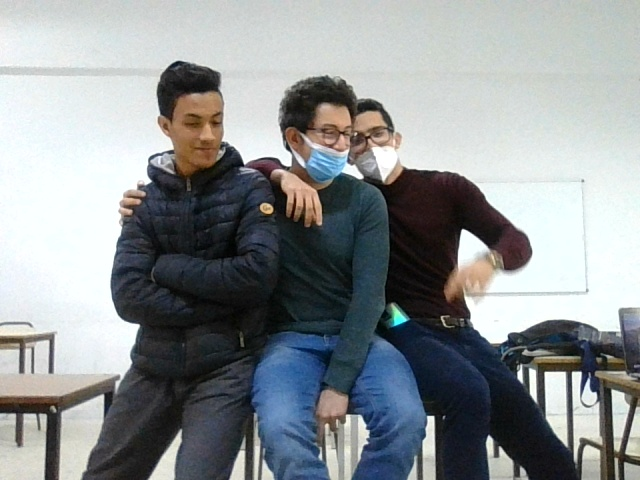mask_weared_incorrect: (271, 68, 357, 186), (352, 98, 418, 188)
without_mask: (148, 76, 230, 174)
